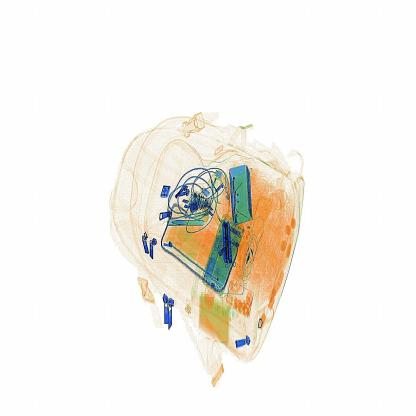scissors: (219, 216, 248, 273)
